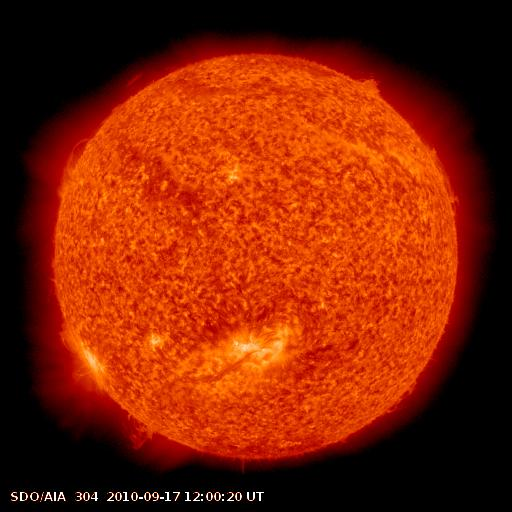prominence: (50, 133, 97, 207), (119, 400, 171, 463), (425, 135, 465, 212), (343, 61, 396, 108), (54, 304, 94, 355), (117, 63, 163, 95)
